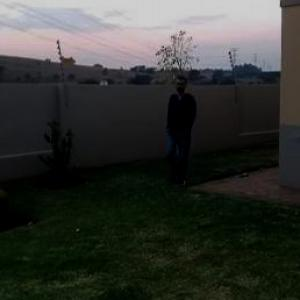follow: (162, 72, 200, 184)
